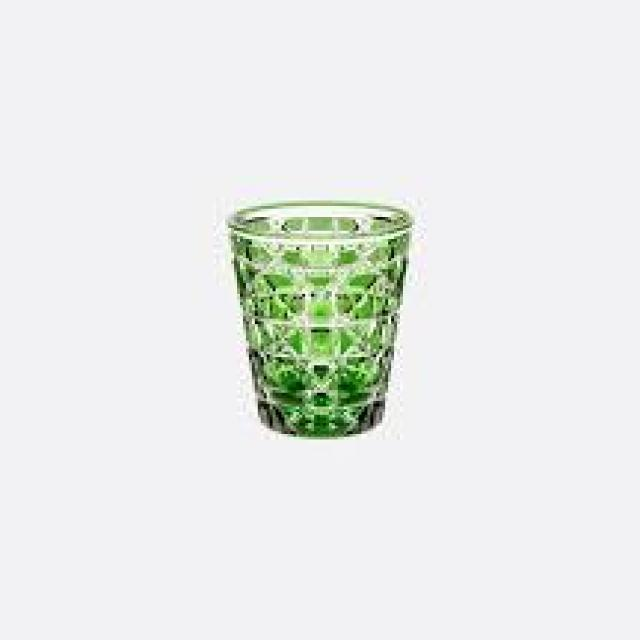Glass-Non-Biodegradable but Recyclable-: (227, 217, 414, 441)
